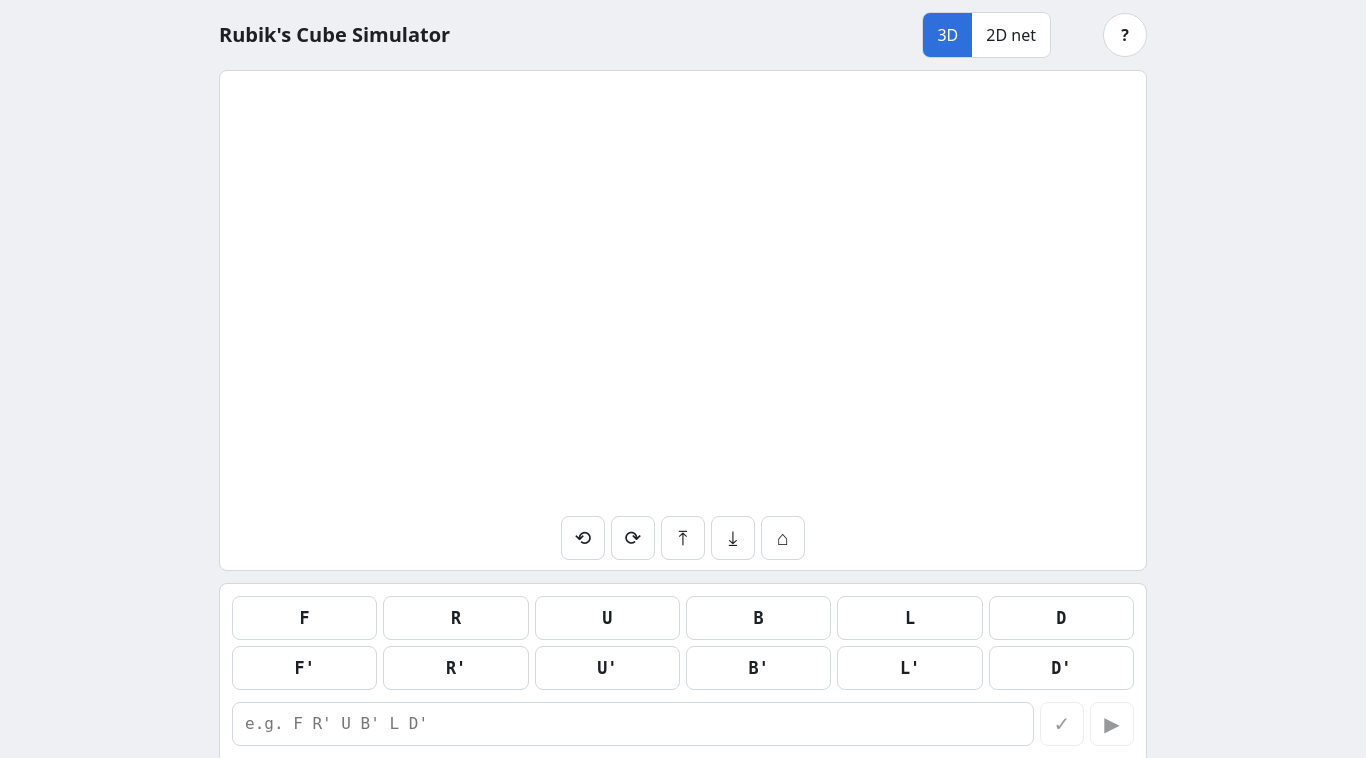
App › Solve plays the suggested solution and lists its stages
Click the tab "2D net". click: (1011, 35)
box: [972,13,1050,57]
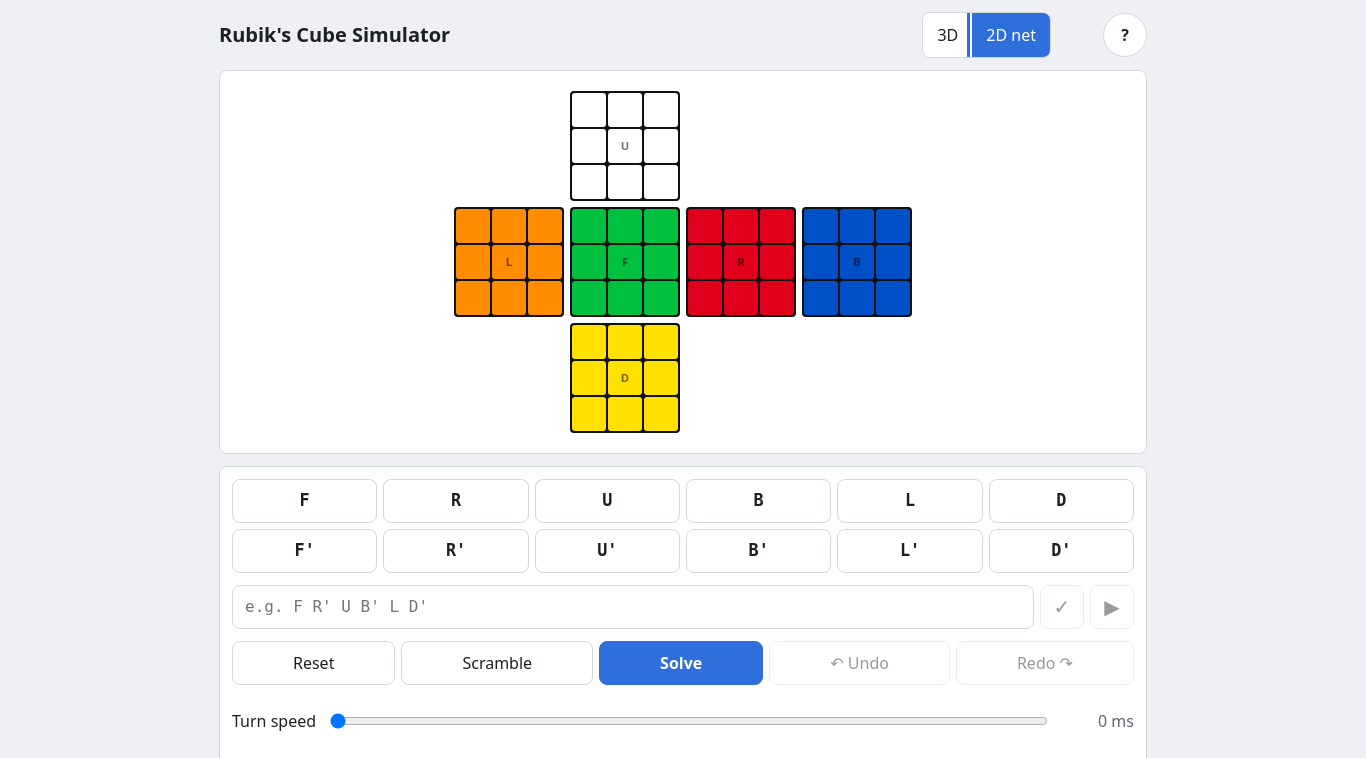
Type "F R'" into the field named "Move sequence". click: (633, 607)
box: [232,585,1034,629]
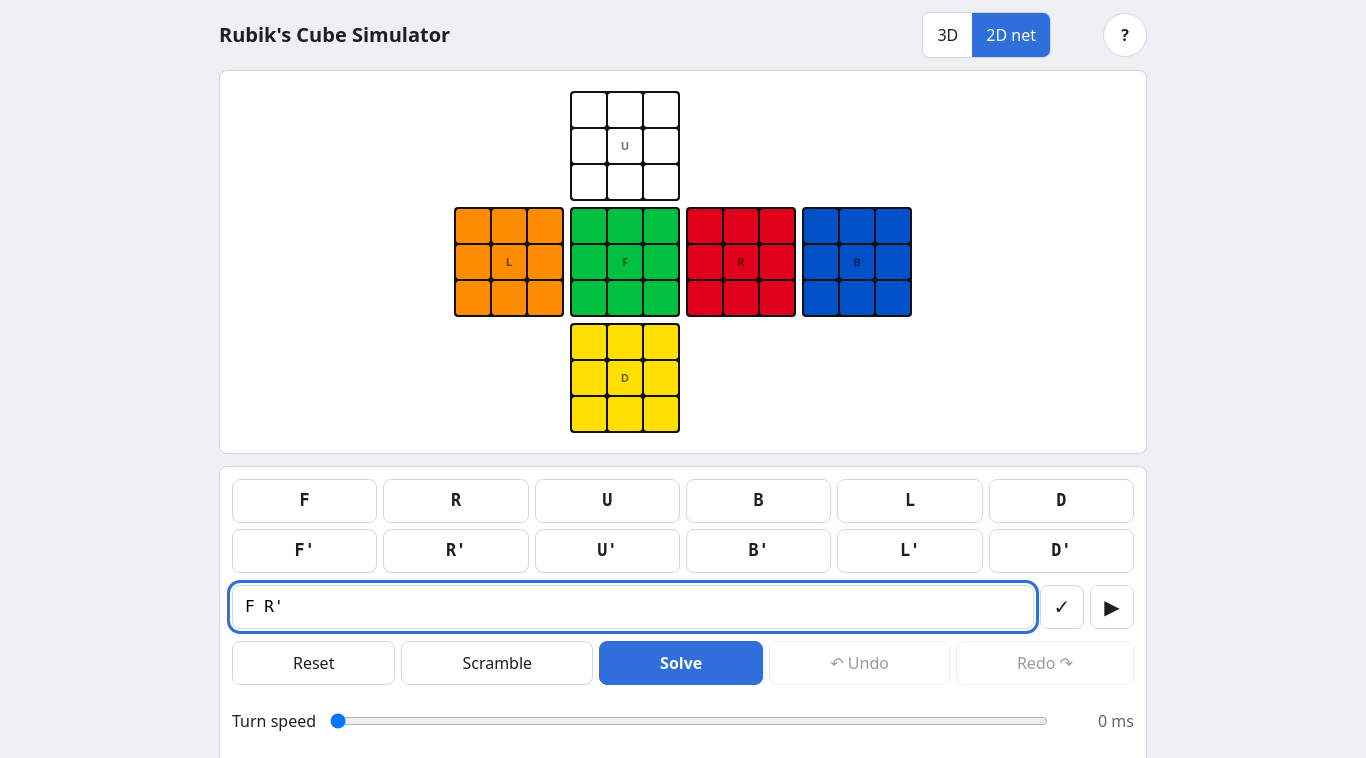
Click the button named "Apply sequence". click: (1062, 607)
box: [1040,585,1084,629]
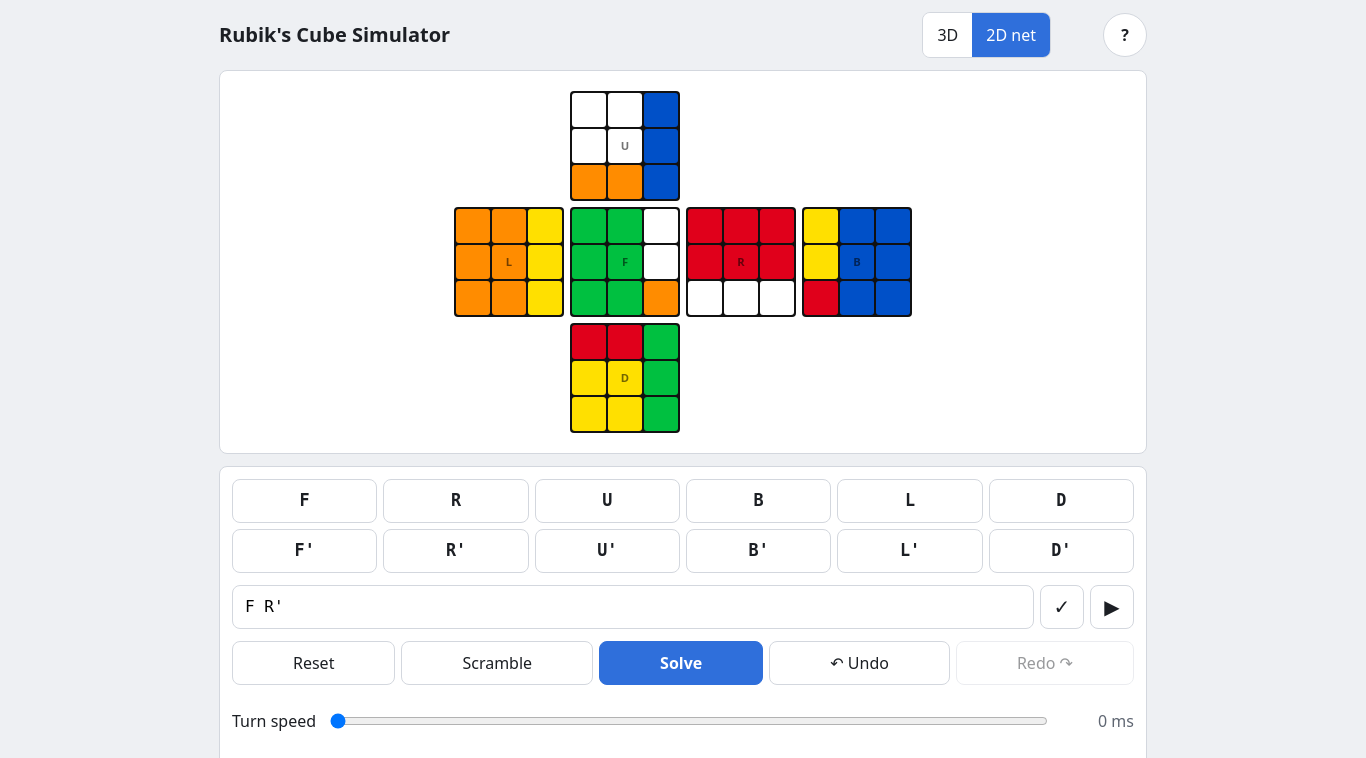
Click the button "Solve". click: (681, 663)
box: [599,641,763,685]
(page scrolled)
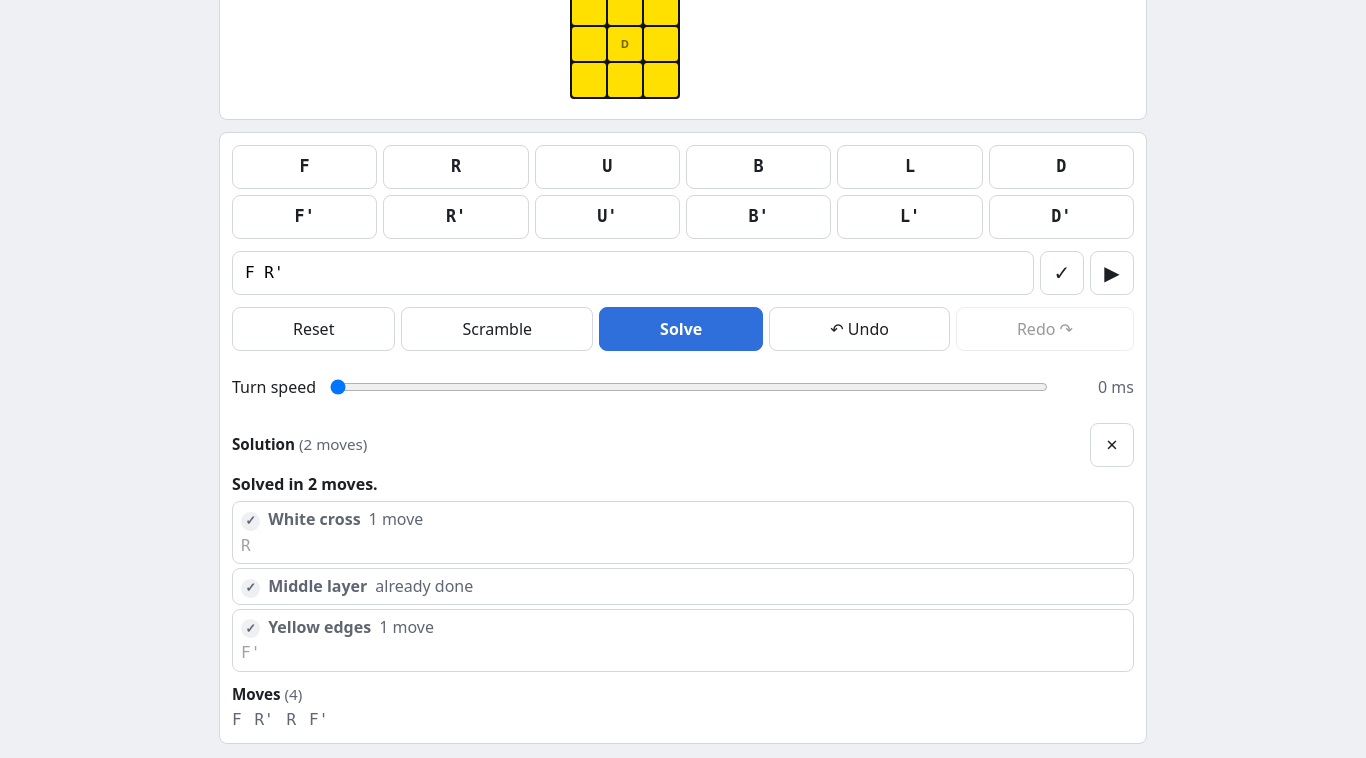
Expected: the message reads "Solved in 2 moves.", [232,473,378,495]
Expected: the list items read "✓White cross1 moveR", "✓Middle layeralready done", "✓Yellow edges1 moveF'", in this order, [232,501,1134,564]; [232,568,1134,605]; [232,609,1134,672]
Click the button named "Close solution". click: (1112, 445)
box: [1090,423,1134,467]
(page scrolled)
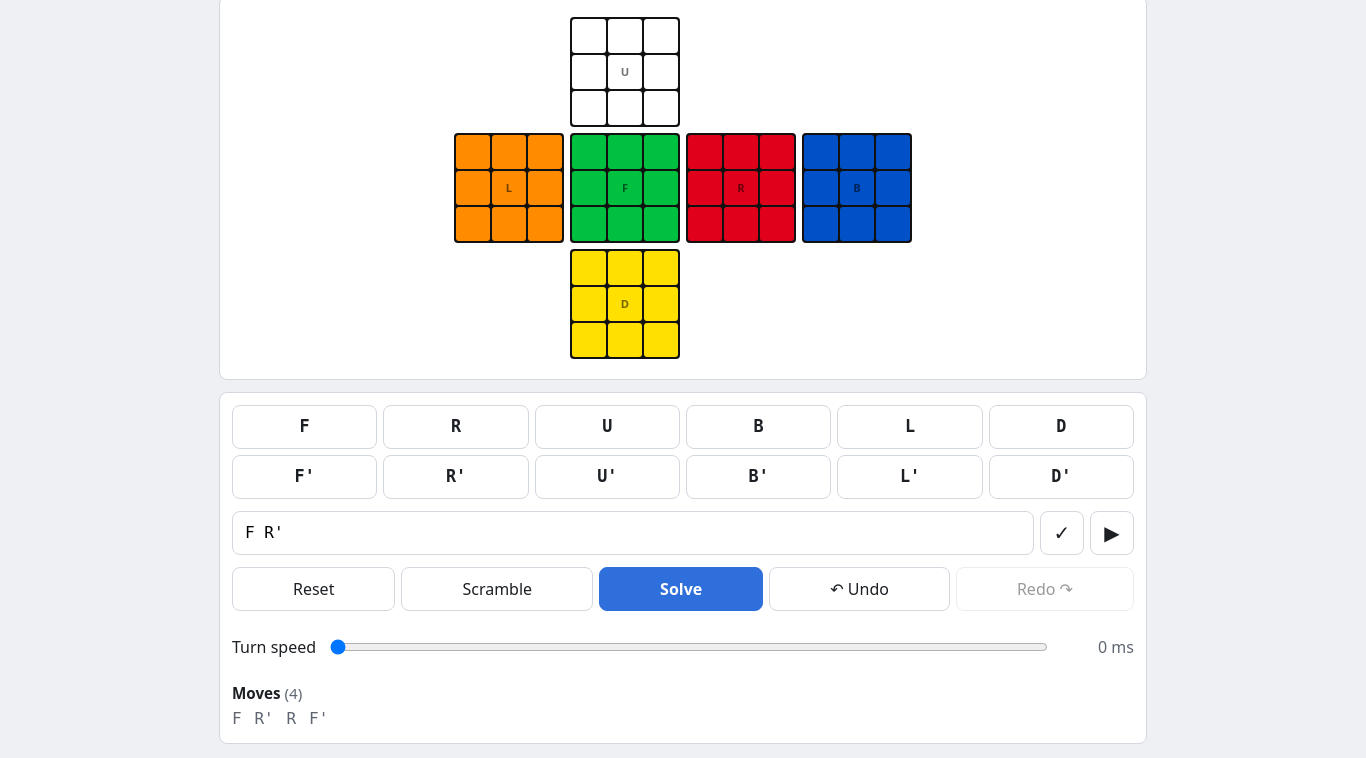
Expected: the heading "Solution" is gone
